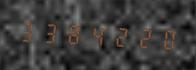eight: (63, 18, 85, 49)
four: (86, 19, 108, 50)
three: (17, 15, 39, 46), (40, 17, 62, 48)
two: (109, 20, 131, 51), (132, 21, 154, 52)
zero: (155, 23, 177, 54)
